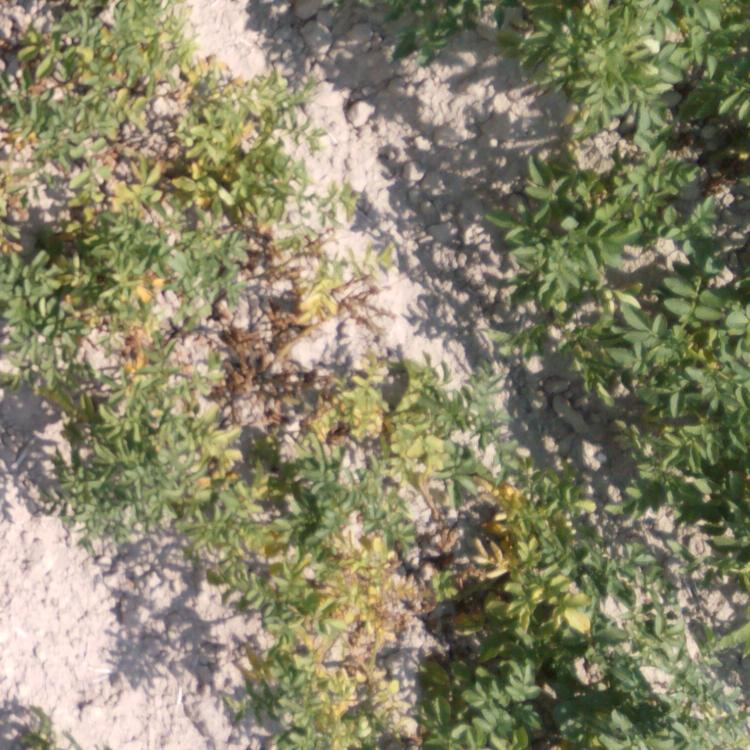healthy: (594, 287, 750, 520), (483, 141, 740, 273), (506, 1, 738, 127), (645, 556, 750, 746), (502, 277, 594, 355), (346, 1, 483, 40)
stressed: (1, 214, 380, 345), (418, 532, 628, 747), (243, 344, 499, 519), (201, 535, 411, 748), (1, 69, 297, 214), (11, 346, 239, 530), (1, 1, 216, 72), (488, 455, 586, 522)
